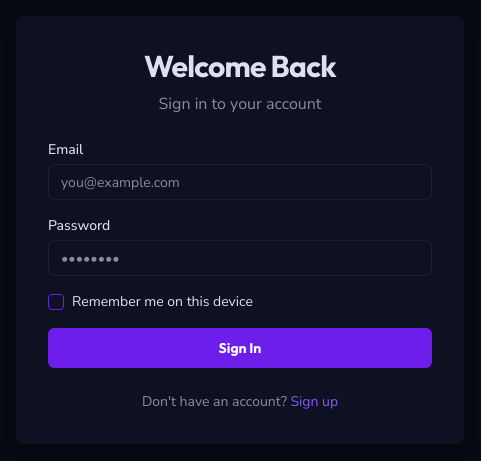
it: LoginPage › shows loading state during submission
Type "test@test.com" into the field labelled "Email" at (240, 182), box [48,164,432,200]
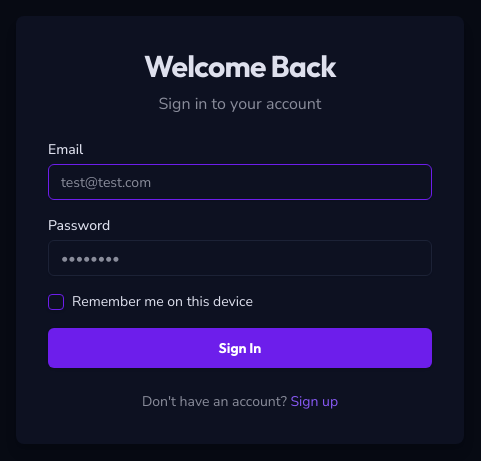
Type "password123456" into the password field labelled "Password" at (240, 258), box [48,240,432,276]
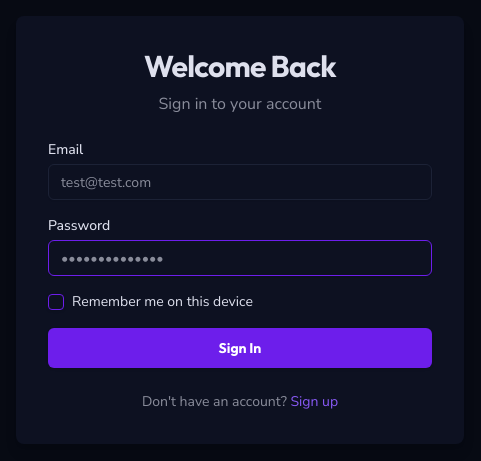
Click the button "Sign In" at (240, 348), box [48,328,432,368]
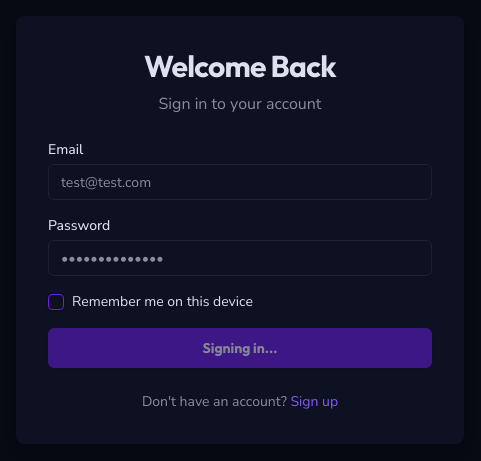
Expected: the button "Signing in..." is disabled, [48,328,432,368]
